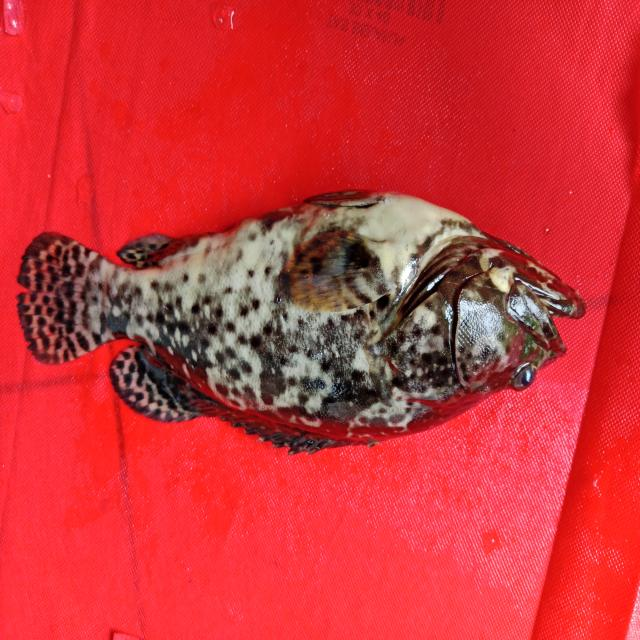ikan: (13, 162, 600, 468)
